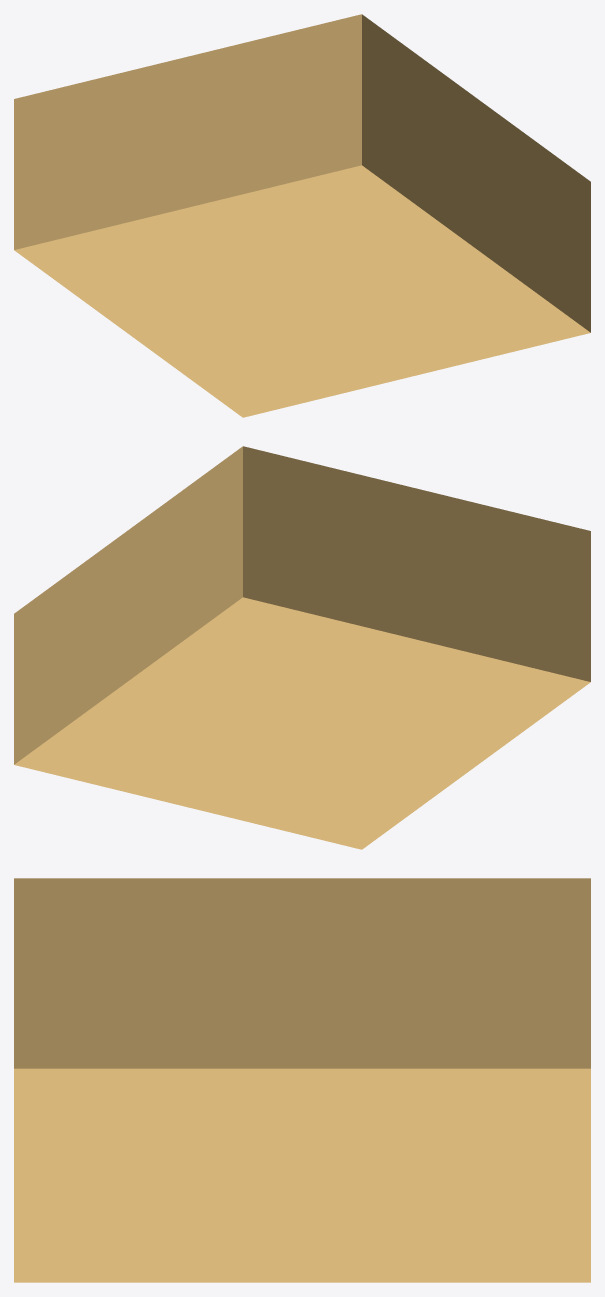
Rendered from templates-raj-darbar-009.glb.
3 views of the same model, one above another, from view 1: azimuth 30°, elevation 25°; view 2: azimuth 150°, elevation 25°; view 3: azimuth 270°, elevation 25° (orthographic). The views are drawn at different scales.
Visible parts, largest first — view 1: Raj Darbar Templates; view 2: Raj Darbar Templates; view 3: Raj Darbar Templates.
Boxes of the visible parts, x1=… form: Raj Darbar Templates: x1=14, y1=14, x2=590, y2=417; Raj Darbar Templates: x1=14, y1=446, x2=590, y2=849; Raj Darbar Templates: x1=14, y1=878, x2=590, y2=1282.
Size of the model in its own units: 4 by 1.66 by 4.56.
